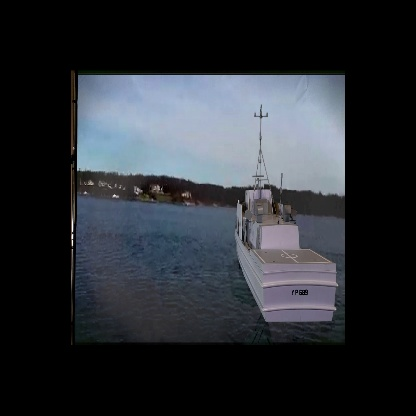YP689: (234, 105, 338, 322)
